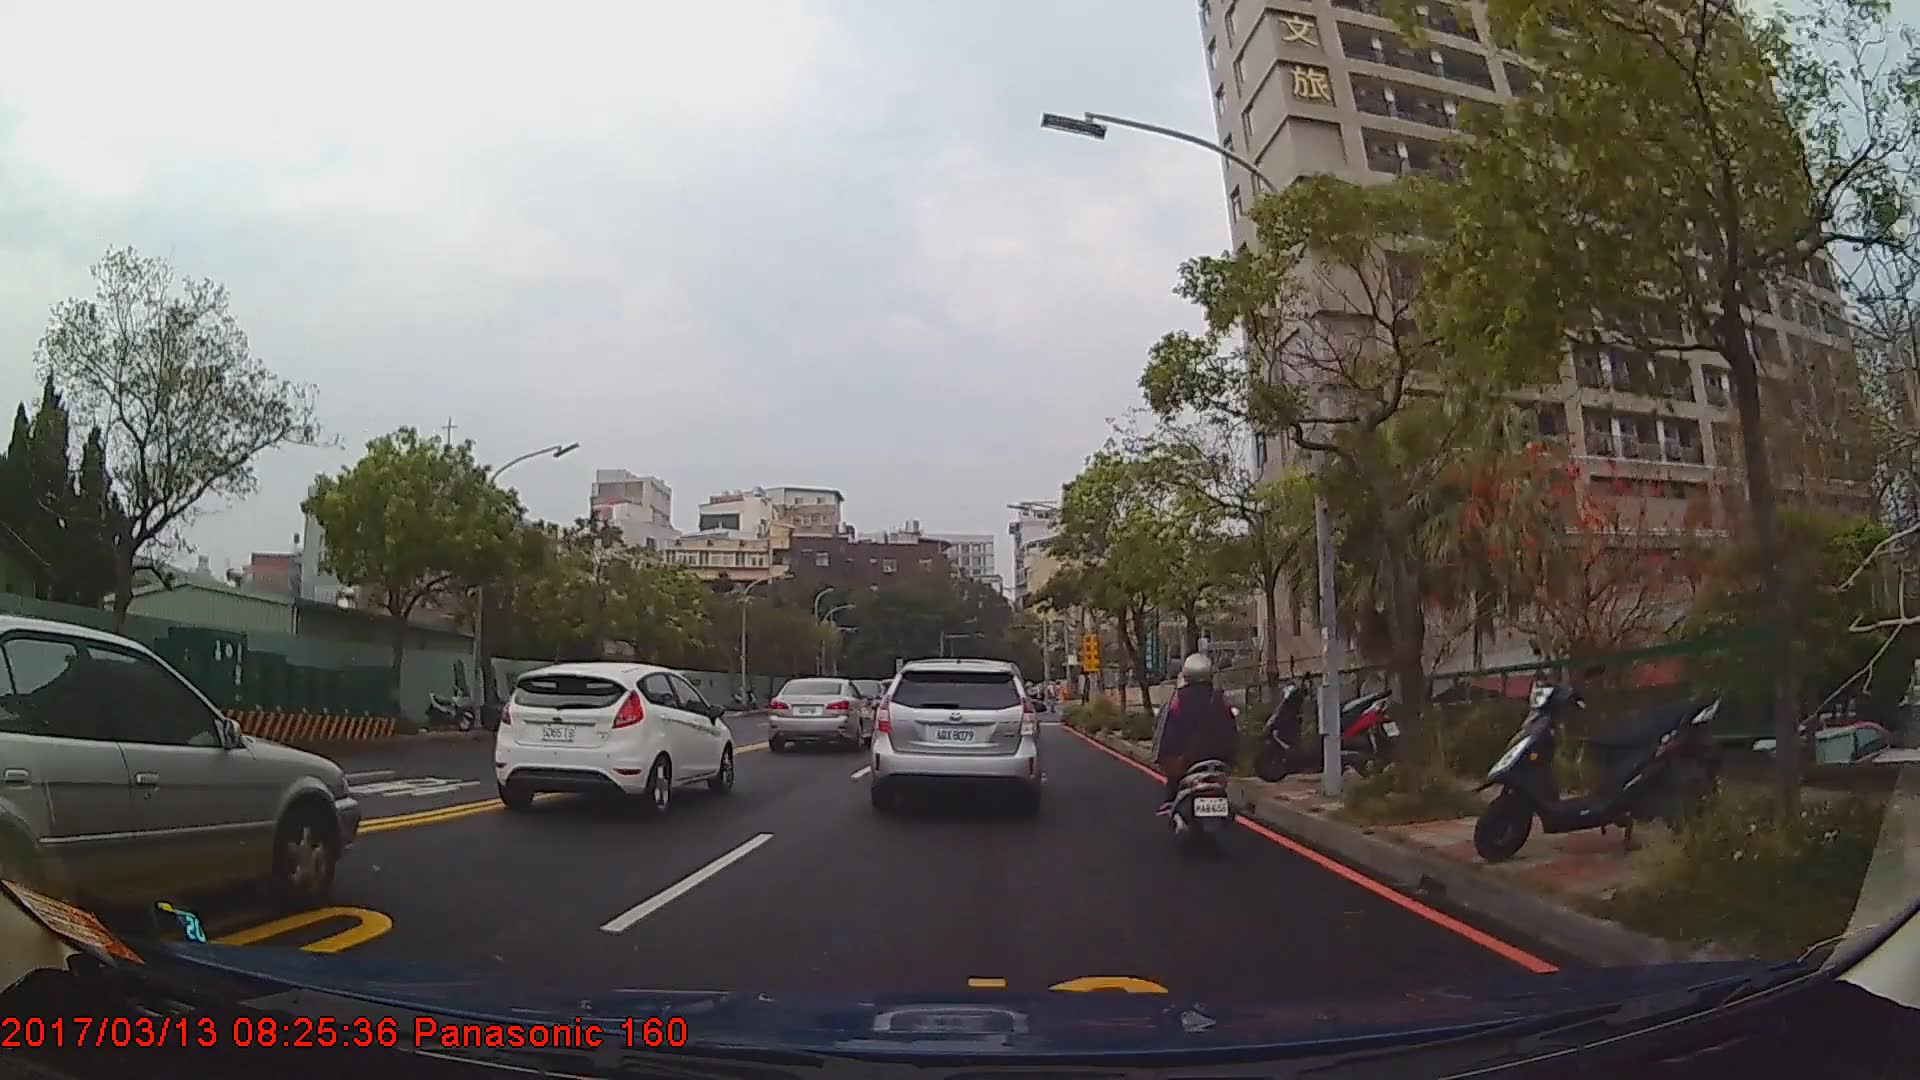rider: (1154, 653, 1236, 858)
vehicle: (0, 610, 358, 934), (493, 660, 732, 820), (870, 657, 1040, 817), (769, 675, 876, 754)
